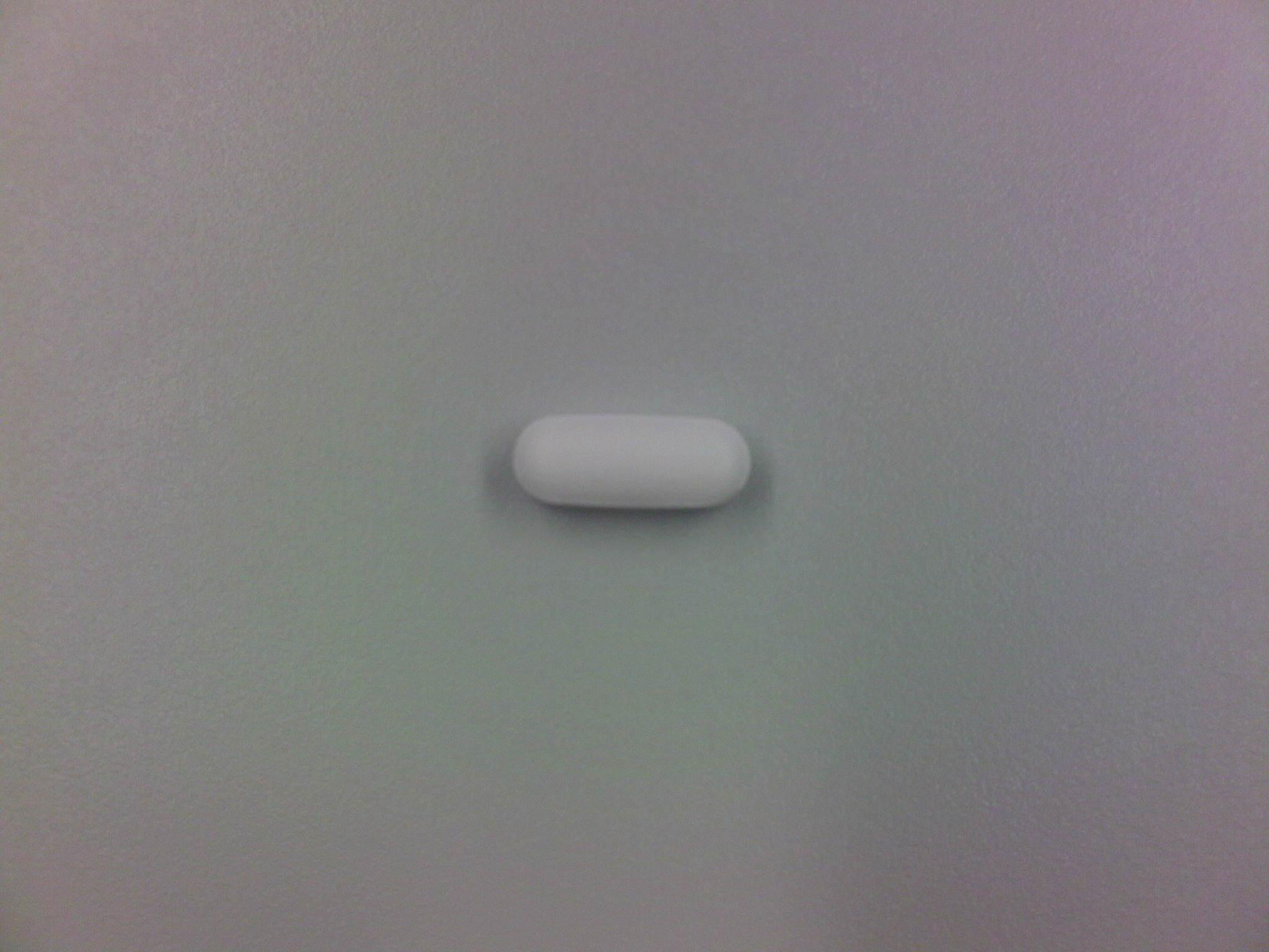Pill: (507, 406, 759, 521)
